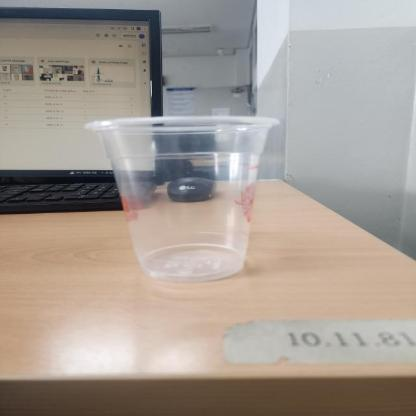Plastic Cup: (83, 117, 283, 282)
